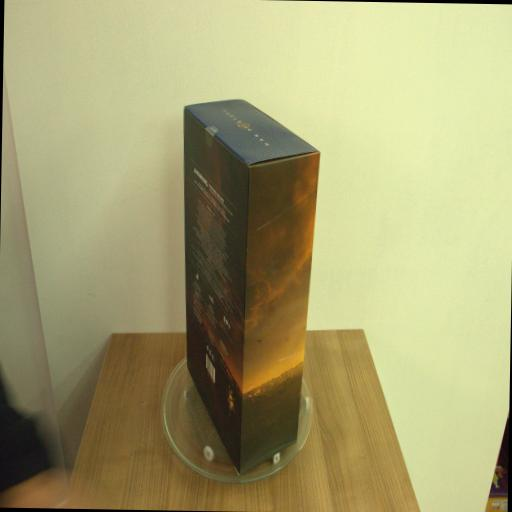superman: (177, 96, 322, 476)
